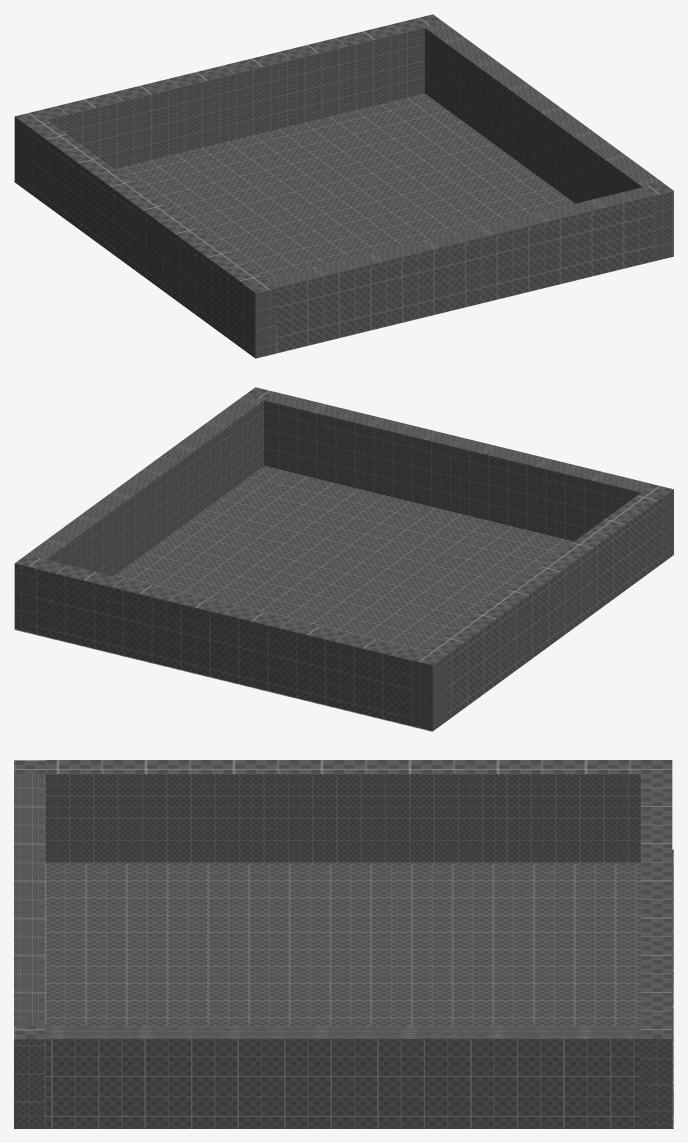
File: us_map.glb
3 views of the same model, one above another, from view 1: azimuth 30°, elevation 25°; view 2: azimuth 150°, elevation 25°; view 3: azimuth 270°, elevation 25° (orthographic). The views are drawn at different scales.
Visible parts, largest first — view 1: Cube; view 2: Cube; view 3: Cube.
Part boxes in pixels (box(x1,y1,x2,y2)): Cube: box(14, 14, 673, 358); Cube: box(14, 387, 673, 731); Cube: box(14, 760, 673, 1128).
Size of the model in its own units: 200 by 30.09 by 200.
Materials: 1 (1 with a texture image).
